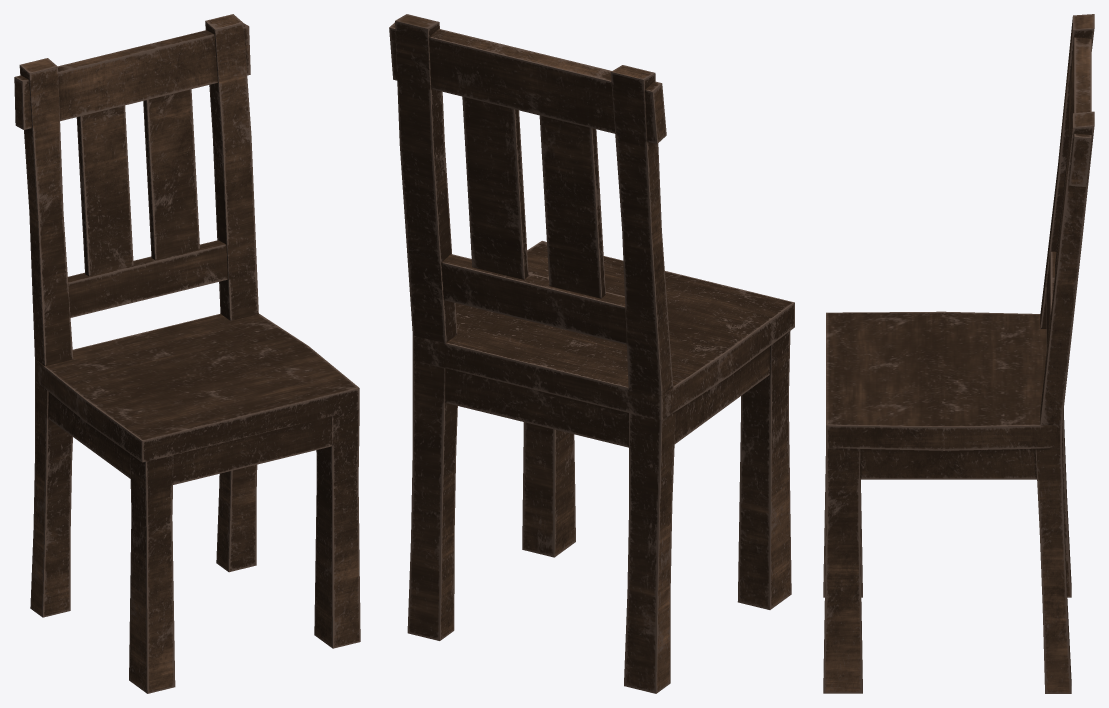
Rendered from chair.glb.
The picture shows the model from 3 angles, left to right: view 1: azimuth 30°, elevation 25°; view 2: azimuth 150°, elevation 25°; view 3: azimuth 270°, elevation 25°; orthographic projection. The views are drawn at different scales.
Visible parts, largest first — view 1: chair; view 2: chair; view 3: chair.
Part boxes in pixels (<box>): chair: <box>14,14,360,693</box>; chair: <box>389,14,794,693</box>; chair: <box>823,14,1094,693</box>.
Size of the model in its own units: 0.407 by 0.9142 by 0.3946.
1 material, 1 textured.
